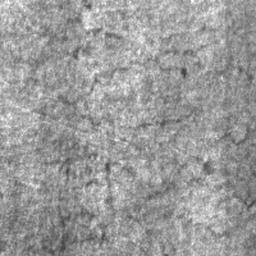Crazing: (27, 0, 256, 253), (162, 179, 256, 241), (214, 53, 256, 84), (207, 123, 256, 148), (10, 180, 24, 198)
